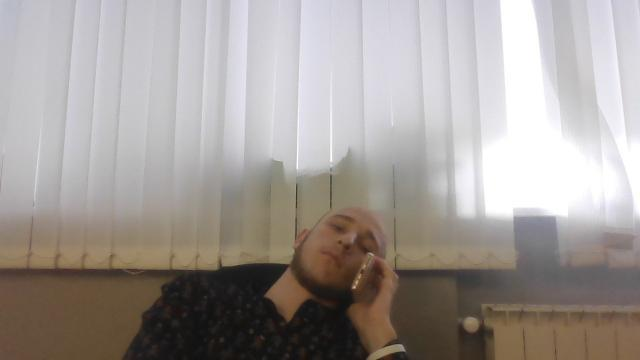PhoneUse: (349, 250, 397, 314)
